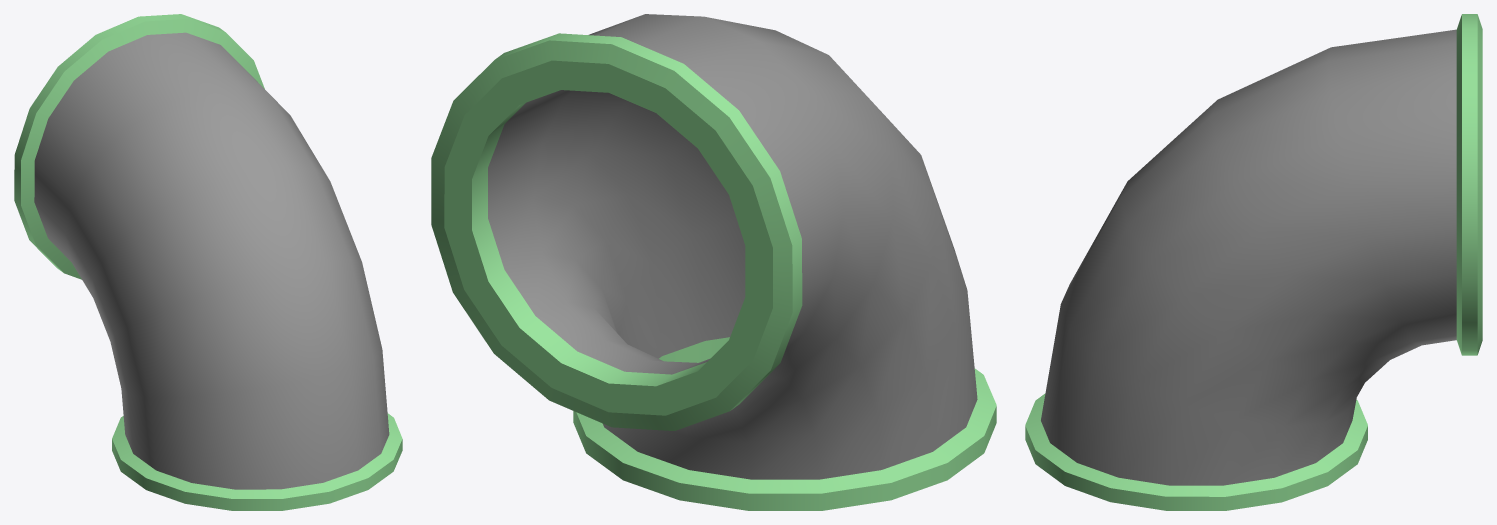
File: Entity_PipeCurveSmall.FBX
The picture shows the model from 3 angles, left to right: view 1: azimuth 30°, elevation 25°; view 2: azimuth 150°, elevation 25°; view 3: azimuth 270°, elevation 25°; orthographic projection. The views are drawn at different scales.
Parts seen in each view (by area): view 1: PipeCurveSmall; view 2: PipeCurveSmall; view 3: PipeCurveSmall.
Boxes of the visible parts, x1=… form: PipeCurveSmall: x1=14, y1=14, x2=402, y2=510; PipeCurveSmall: x1=431, y1=14, x2=996, y2=510; PipeCurveSmall: x1=1025, y1=14, x2=1482, y2=510.
Bounding box in the file's own units: 65.06 × 87.96 × 87.96.
